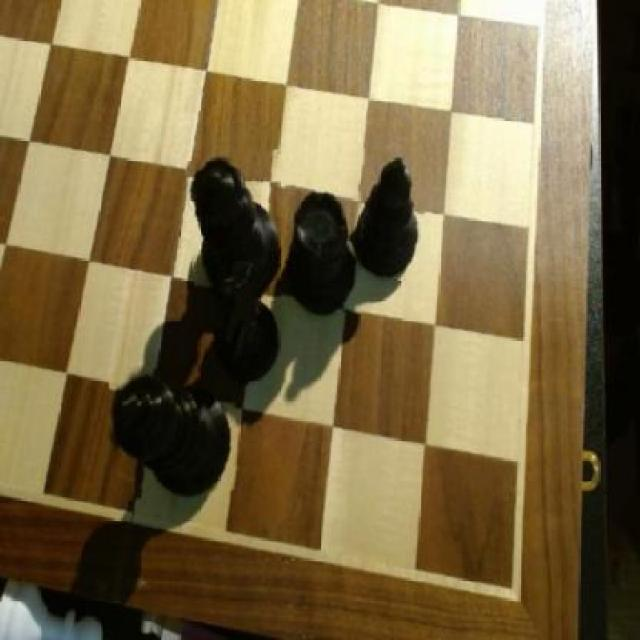bishop: (352, 149, 428, 282)
black-bishop: (109, 363, 238, 498)
black-king: (206, 263, 291, 385)
black-pawn: (188, 152, 284, 286)
black-queen: (283, 189, 365, 314)
